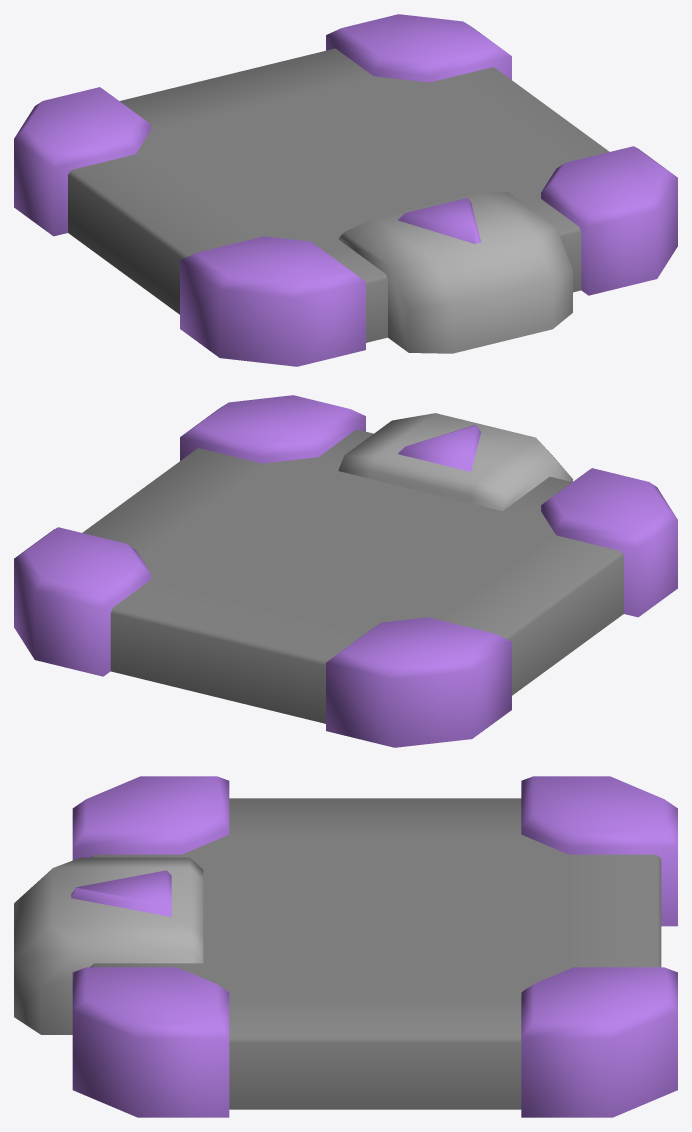
Rendered from PurplePieceBasePlate.glb.
3 views of the same model, one above another, from view 1: azimuth 30°, elevation 25°; view 2: azimuth 150°, elevation 25°; view 3: azimuth 270°, elevation 25° (orthographic). The views are drawn at different scales.
Visible parts, largest first — view 1: Peice Base - Purple; view 2: Peice Base - Purple; view 3: Peice Base - Purple.
Part boxes in pixels (x1,y1,x2,y2): Peice Base - Purple: (14,14,677,366); Peice Base - Purple: (14,395,677,747); Peice Base - Purple: (14,776,677,1117).
Bounding box in the file's own units: 0.8785 × 0.1605 × 0.9559.
